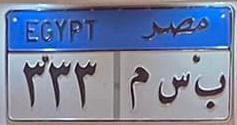3: (70, 55, 102, 115), (47, 56, 71, 113), (24, 57, 47, 110)
ب: (193, 68, 230, 110)
س: (150, 68, 194, 107)
م: (122, 64, 151, 112)
